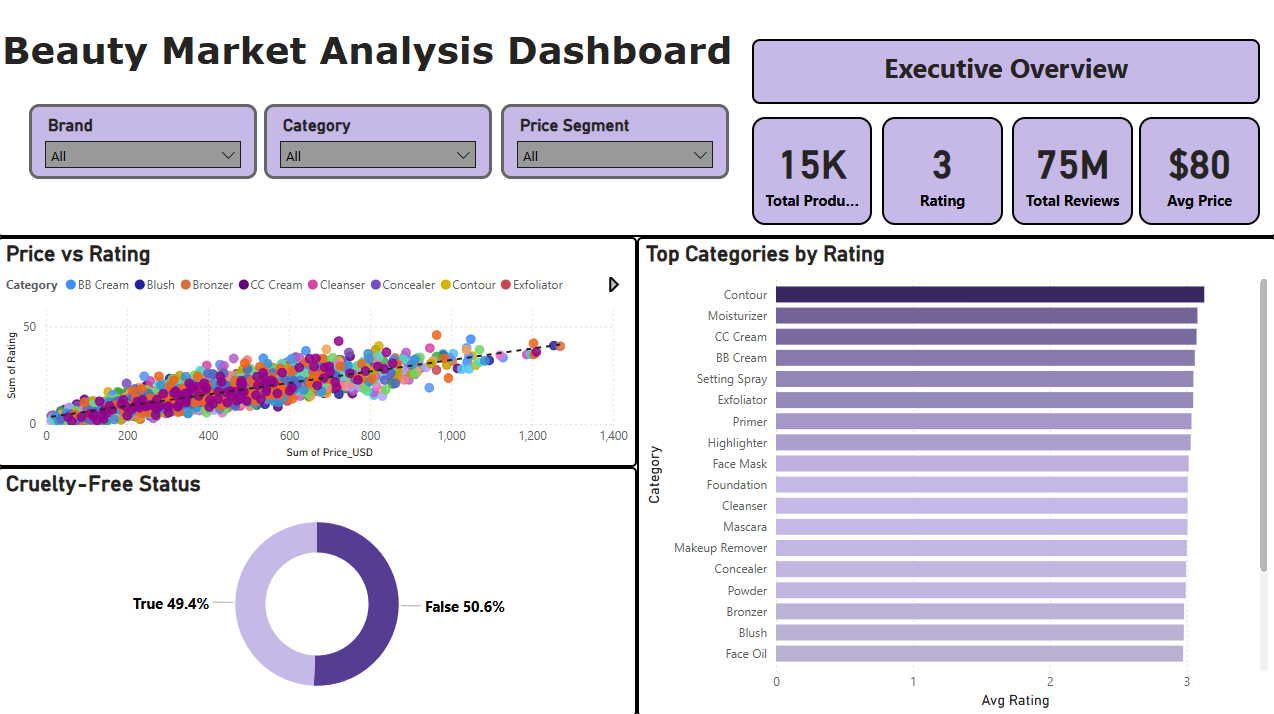

The dashboard page shown, as its layout file describes it:
{"tool":"powerbi","page":{"name":"Page 1","canvas":[1280,720],"ordinal":0},"visuals":[{"type":"textbox","box":[0,0,1280,239.7],"z":0},{"type":"slicer","fields":{"Values":["most_used_beauty_cosmetics_products_extended.Brand"]},"box":[31.9,107.3,228,74.9],"z":1000},{"type":"slicer","fields":{"Values":["most_used_beauty_cosmetics_products_extended.Category"]},"box":[267.3,107.3,228,74.9],"z":2000},{"type":"slicer","fields":{"Values":["most_used_beauty_cosmetics_products_extended.Price_Segment"]},"box":[503.9,107.3,228,74.9],"z":3000},{"type":"card","fields":{"Values":["most_used_beauty_cosmetics_products_extended.Total Products"]},"box":[755,120,120,108],"z":4000},{"type":"card","fields":{"Values":["most_used_beauty_cosmetics_products_extended.Avg Rating"]},"box":[885,120,121,108],"z":5000},{"type":"card","fields":{"Values":["most_used_beauty_cosmetics_products_extended.Total Reviews"]},"box":[1015,120,121,108],"z":6000},{"type":"card","fields":{"Values":["most_used_beauty_cosmetics_products_extended.Avg Price"]},"box":[1142,120,121,108],"z":7000},{"type":"clusteredBarChart","title":"Top Categories by Rating","fields":{"Category":["most_used_beauty_cosmetics_products_extended.Category"],"Y":["most_used_beauty_cosmetics_products_extended.Avg Rating"]},"box":[640,239.7,640,480.5],"z":8000},{"type":"scatterChart","title":"Price vs Rating","fields":{"X":["Sum(most_used_beauty_cosmetics_products_extended.Price_USD)"],"Y":["Sum(most_used_beauty_cosmetics_products_extended.Rating)"],"Series":["most_used_beauty_cosmetics_products_extended.Category"],"Category":["most_used_beauty_cosmetics_products_extended.Product_Name"]},"box":[0,239.7,640,230.1],"z":9000},{"type":"donutChart","title":"Cruelty-Free Status","fields":{"Category":["most_used_beauty_cosmetics_products_extended.Cruelty_Free"],"Y":["CountNonNull(most_used_beauty_cosmetics_products_extended.Brand)"]},"box":[0,470,640,250],"z":10000},{"type":"textbox","box":[755,42,508,65],"z":11000},{"type":"textbox","box":[0,24,755,96],"z":11001}]}

Visuals, with their boxes in screenshot pixels (x1, y1, x2, y2), scaled from the page's 1280x720 canvas onto the 1274x714 screenshot:
textbox: x1=0, y1=0, x2=1273, y2=238
slicer - most_used_beauty_cosmetics_products_extended.Brand: x1=32, y1=106, x2=259, y2=181
slicer - most_used_beauty_cosmetics_products_extended.Category: x1=266, y1=106, x2=493, y2=181
slicer - most_used_beauty_cosmetics_products_extended.Price_Segment: x1=502, y1=106, x2=728, y2=181
card - most_used_beauty_cosmetics_products_extended.Total Products: x1=751, y1=119, x2=871, y2=226
card - most_used_beauty_cosmetics_products_extended.Avg Rating: x1=881, y1=119, x2=1001, y2=226
card - most_used_beauty_cosmetics_products_extended.Total Reviews: x1=1010, y1=119, x2=1131, y2=226
card - most_used_beauty_cosmetics_products_extended.Avg Price: x1=1137, y1=119, x2=1257, y2=226
"Top Categories by Rating" clusteredBarChart: x1=637, y1=238, x2=1273, y2=713
"Price vs Rating" scatterChart: x1=0, y1=238, x2=637, y2=466
"Cruelty-Free Status" donutChart: x1=0, y1=466, x2=637, y2=713
textbox: x1=751, y1=42, x2=1257, y2=106
textbox: x1=0, y1=24, x2=751, y2=119
